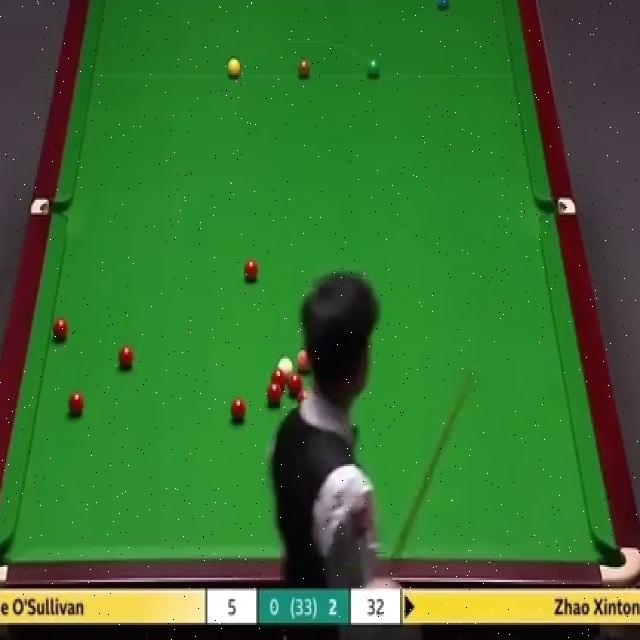blue-ball: (434, 0, 450, 11)
brown-ball: (297, 59, 312, 81)
green-ball: (366, 58, 381, 81)
pink-ball: (293, 348, 313, 375)
red-ball: (67, 390, 86, 420), (117, 344, 135, 371), (265, 383, 283, 408), (51, 317, 68, 343), (243, 258, 260, 284), (230, 397, 246, 424), (269, 368, 287, 391), (290, 372, 308, 393), (297, 389, 311, 406)
white-ball: (275, 354, 296, 380)
yellow-ball: (227, 57, 242, 80)
